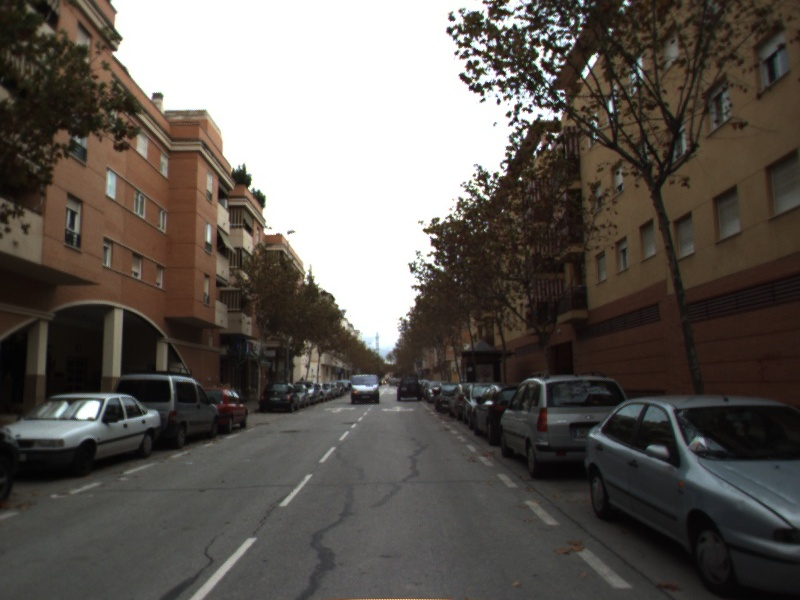STRAIGHT_LEFT_RIGHT: (378, 404, 418, 414)
